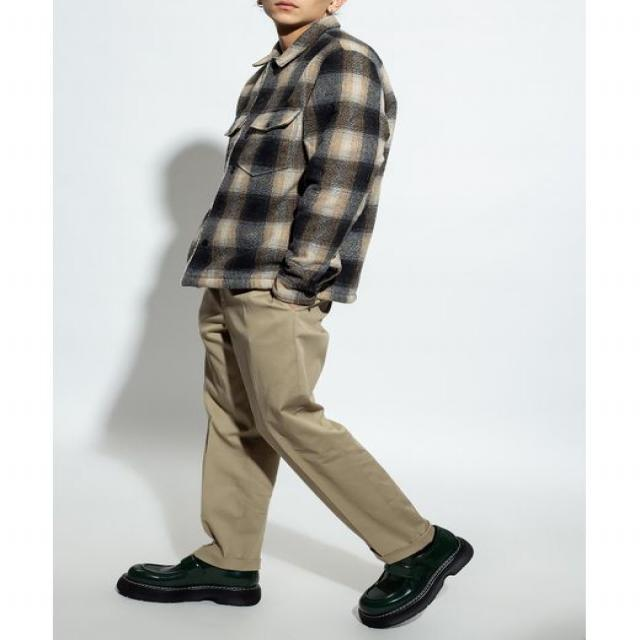plaid: (173, 32, 414, 314)
